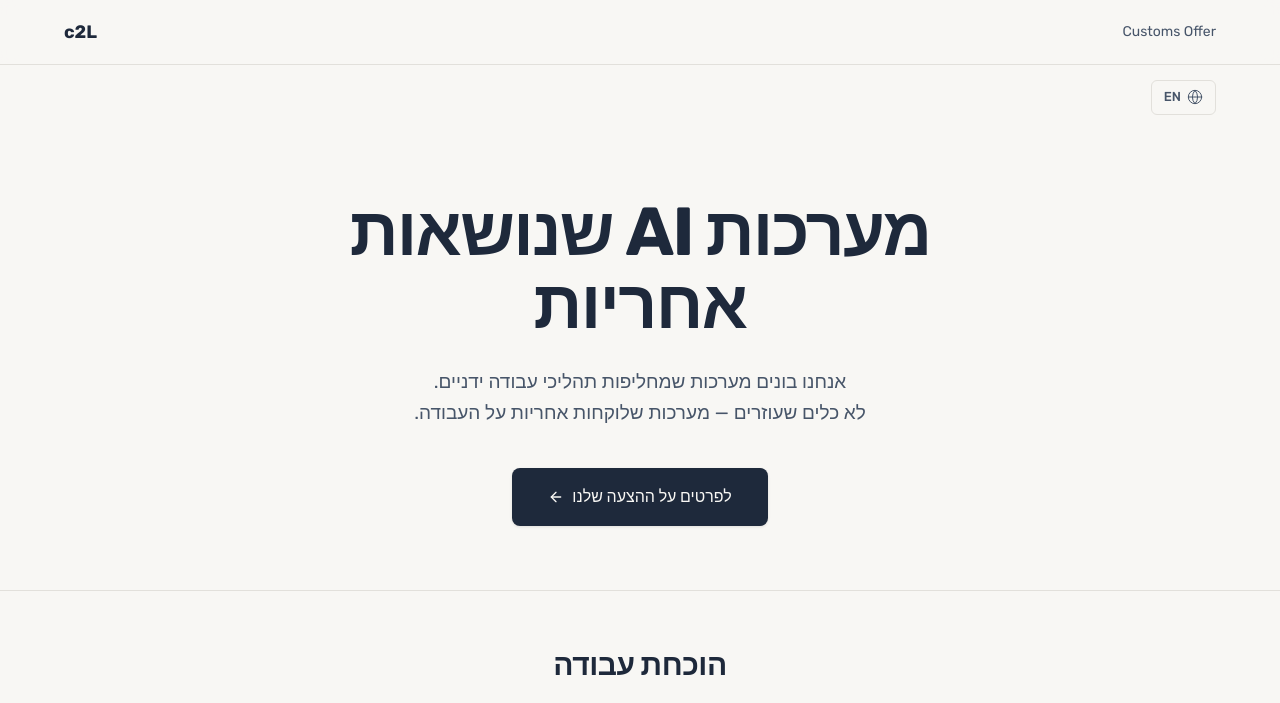
Test: HomePage › toggles to English when language button is clicked
The image size is (1280, 703).
Step 1. Click the button with aria-label "switch to english" → (1183, 97), box x1=1151 y1=80 x2=1216 y2=115
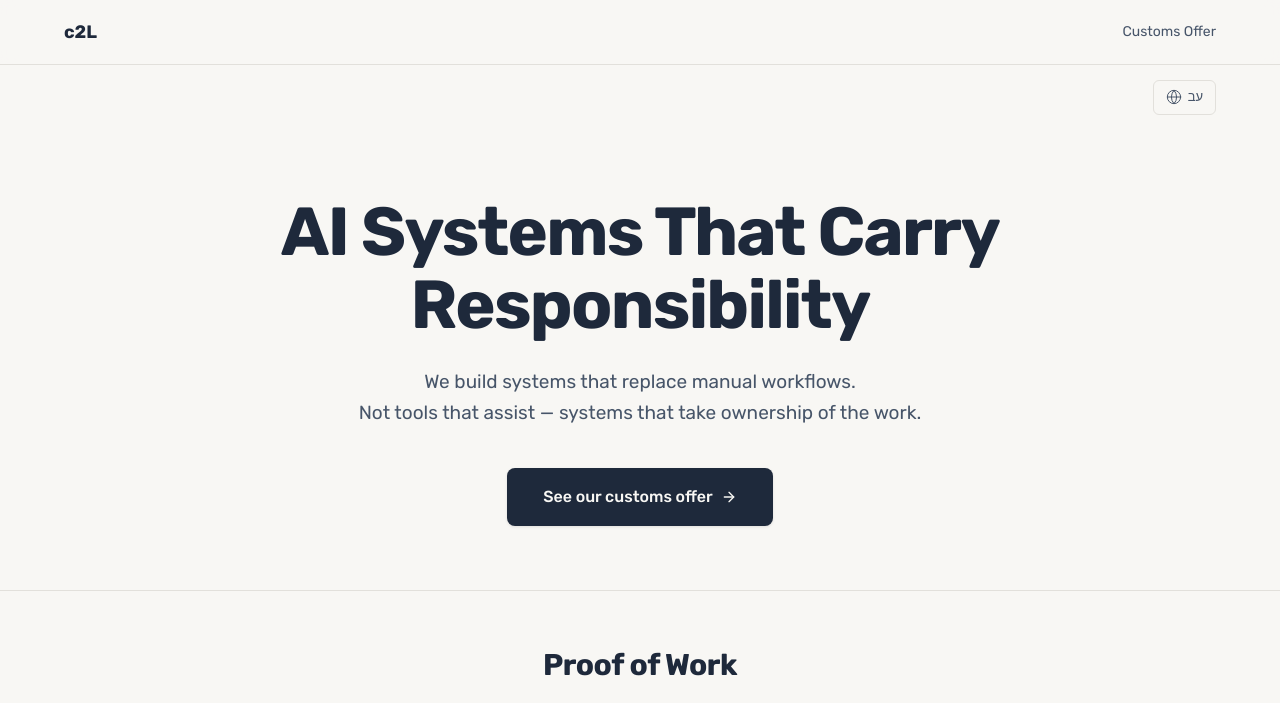
Now the heading "AI Systems That Carry Responsibility" is shown, box x1=280 y1=195 x2=1000 y2=342
